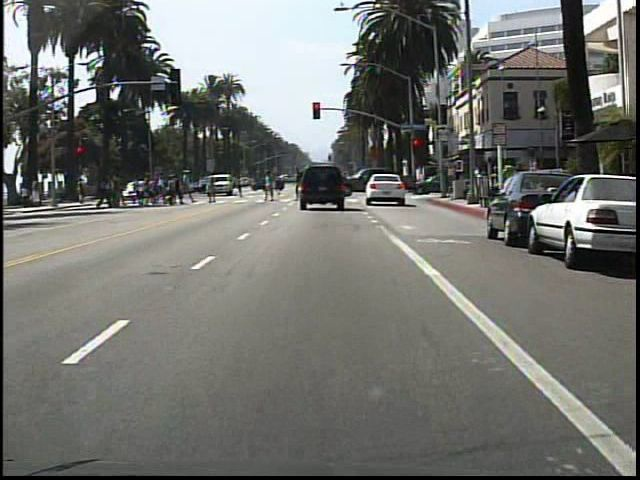person: (229, 169, 249, 203), (487, 160, 502, 203)
